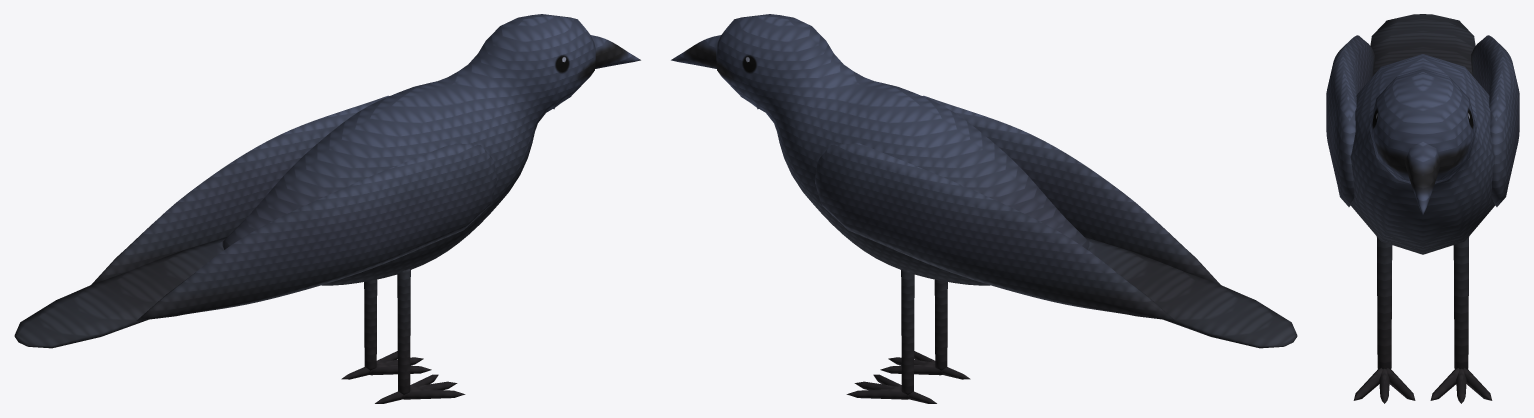
The model's file is crow.fbx.
3 renders of one model, left to right at view 1: azimuth 30°, elevation 25°; view 2: azimuth 150°, elevation 25°; view 3: azimuth 270°, elevation 25°, orthographic. The views are drawn at different scales.
Parts seen in each view (by area): view 1: crow; view 2: crow; view 3: crow.
Part boxes in pixels (box(x1,y1,x2,y2)): crow: box(14, 14, 640, 403); crow: box(671, 14, 1297, 403); crow: box(1326, 14, 1519, 403).
Size of the model in its own units: 10.53 by 45 by 22.89.
Materials: 1 (1 with a texture image).
